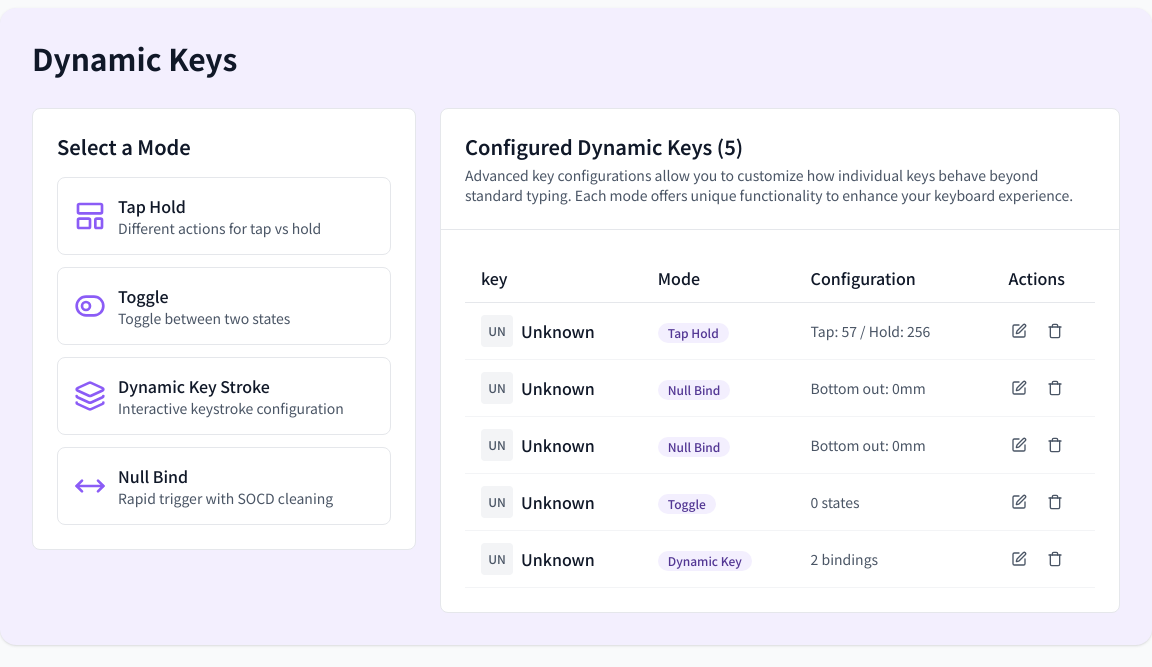
Dynamic Keys dashboard › edits a row in its mode with its key and layer selected
Click the button named "Edit configuration" next to "Tap: 57 / Hold: 256" at (1019, 331), box [1005,317,1033,345]
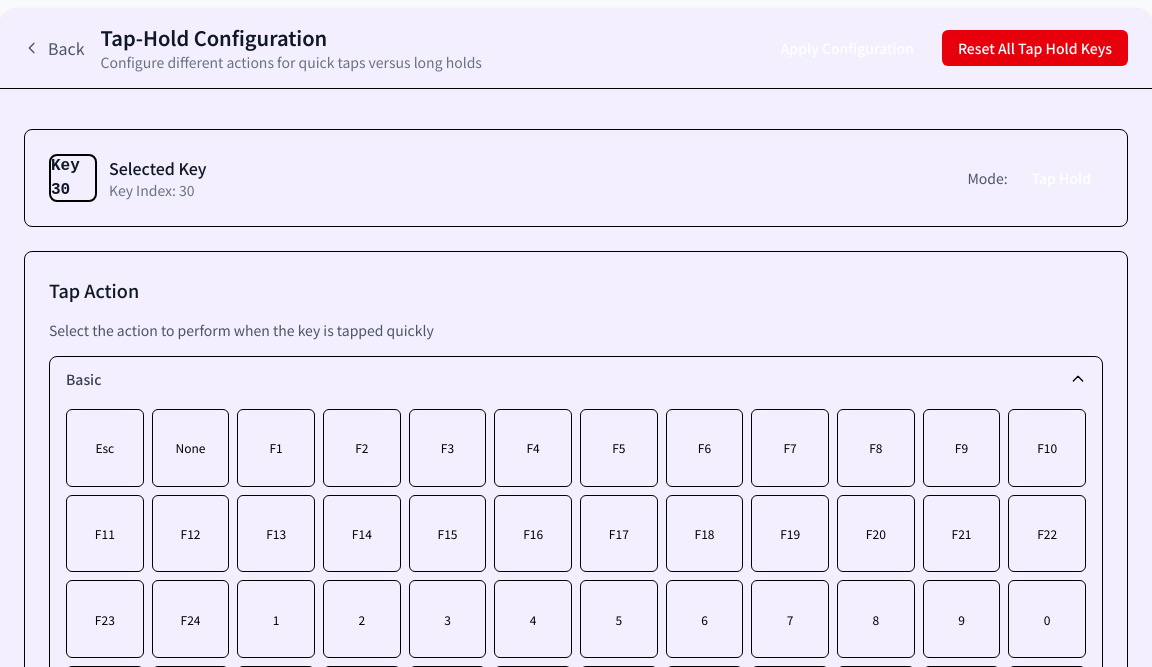
Expected: the heading "Tap-Hold Configuration" is shown, [100,23,327,52]
